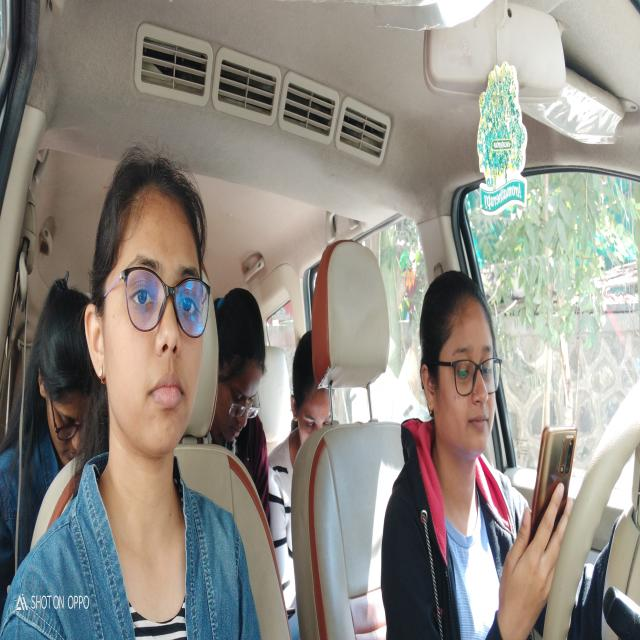mobile: (529, 419, 578, 558)
person: (86, 159, 212, 467), (418, 274, 506, 457), (34, 276, 105, 458), (216, 287, 264, 462), (286, 321, 333, 445)
